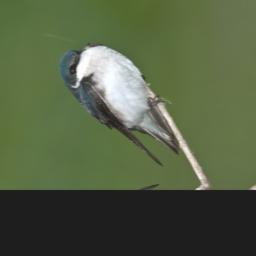Swallow: (40, 32, 199, 170)
